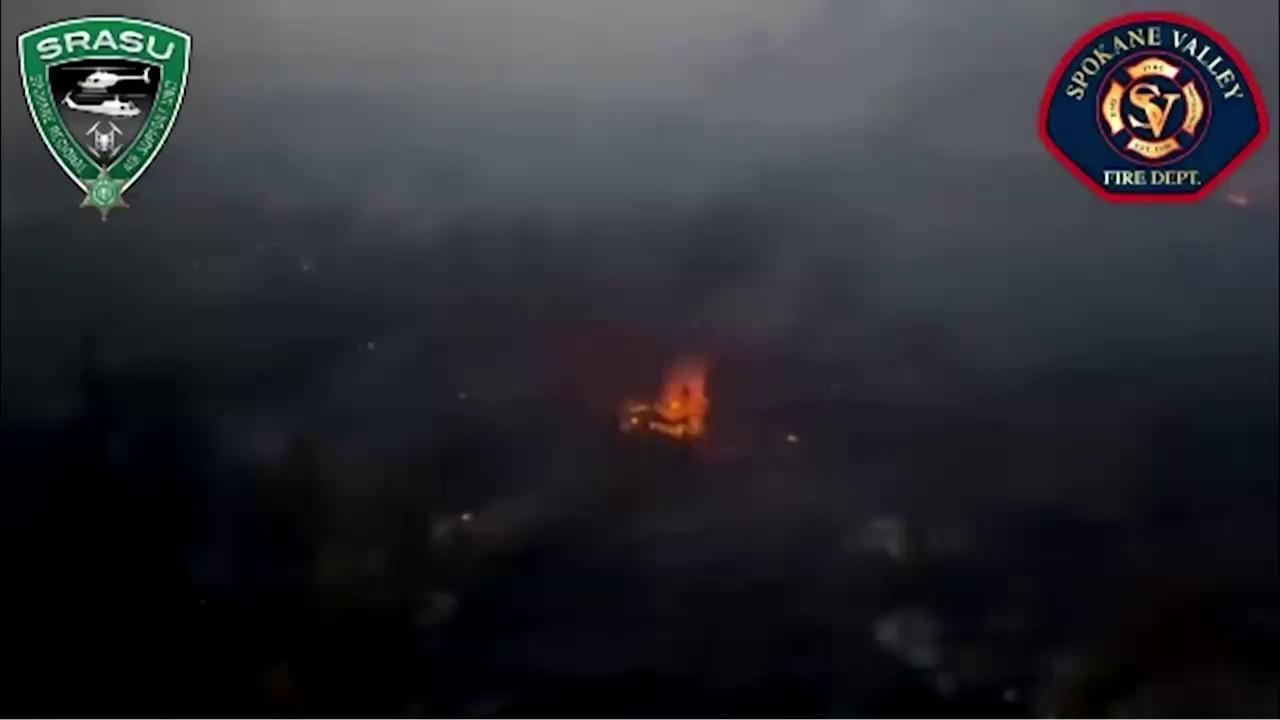fire: (602, 348, 713, 443)
smoke: (4, 0, 1280, 705)
